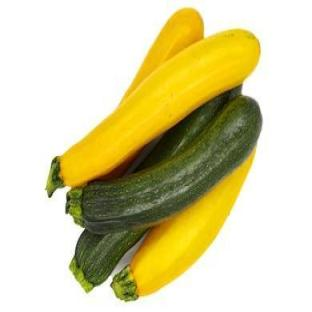Zucchini: (48, 29, 259, 194), (67, 96, 261, 233), (112, 150, 255, 301), (138, 87, 241, 170), (120, 9, 203, 104)
